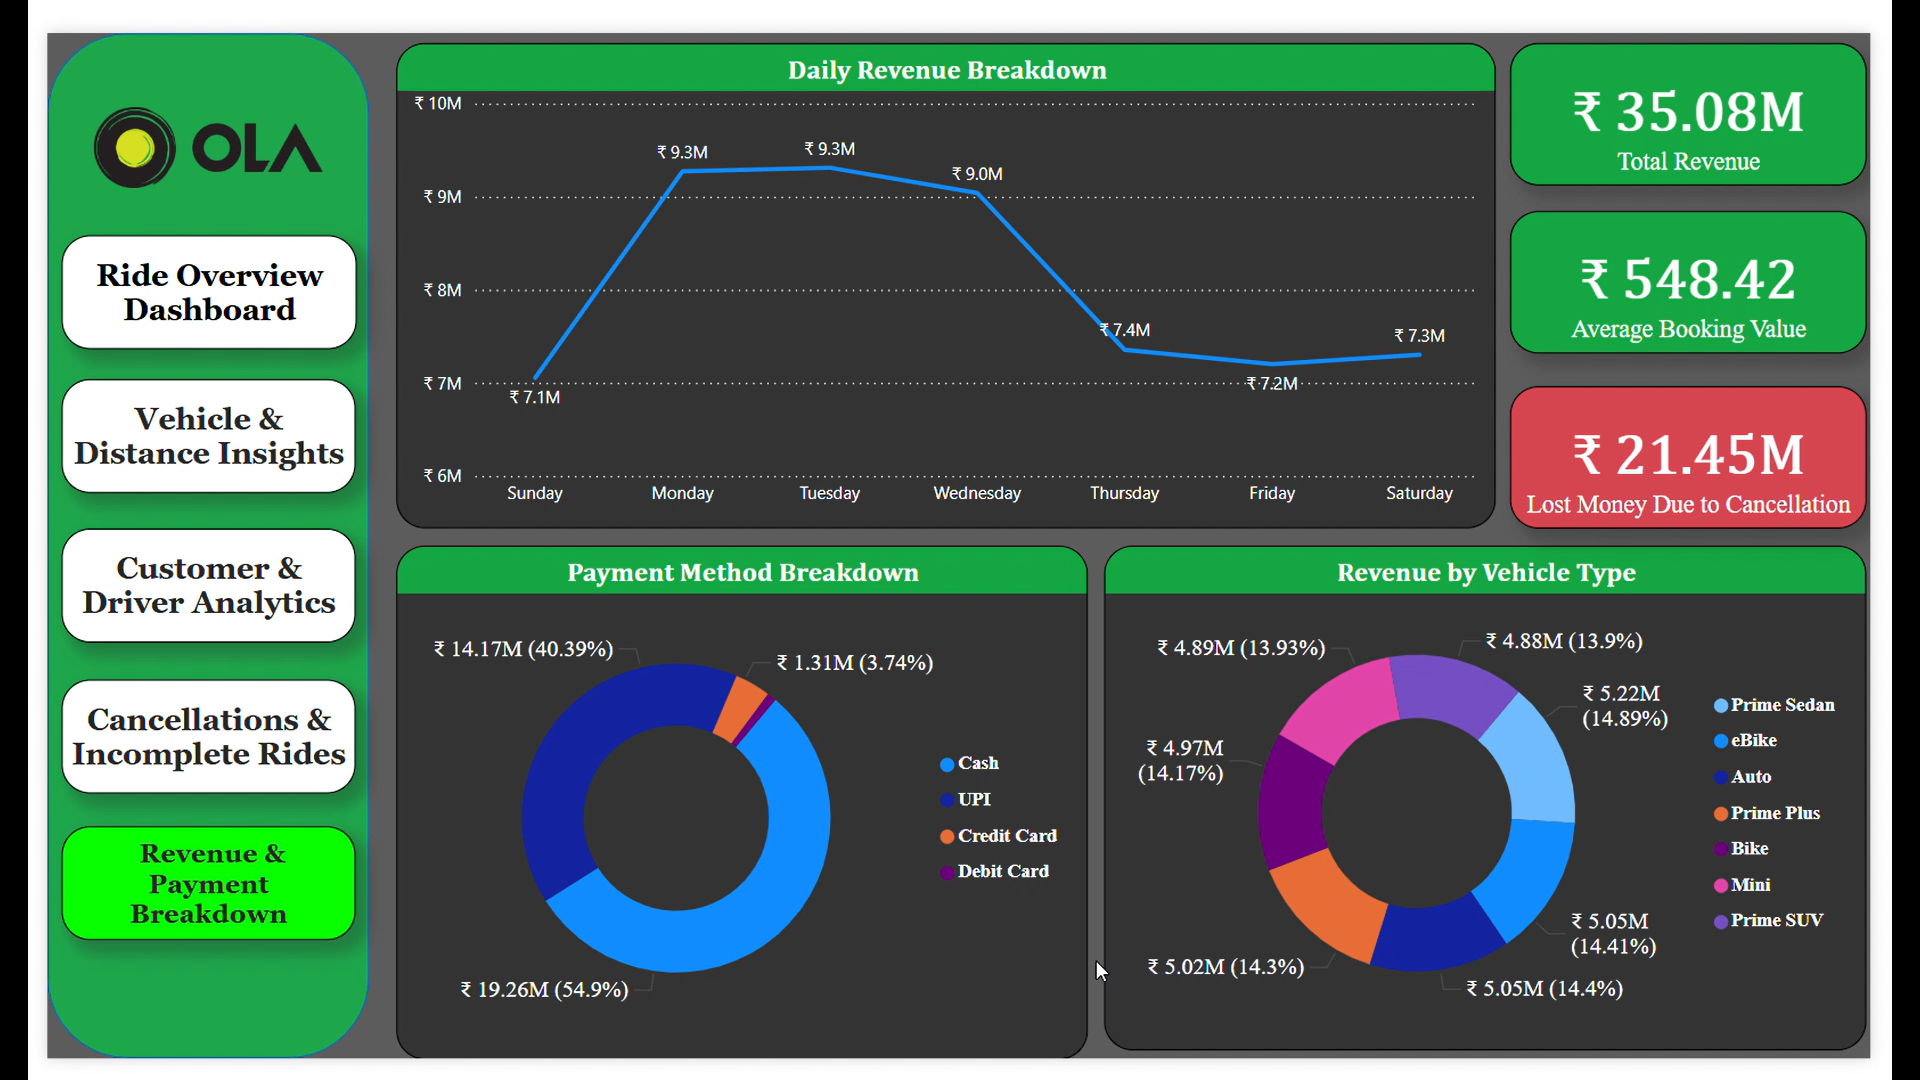

The dashboard page shown, as its layout file describes it:
{"tool":"powerbi","page":{"name":" Revenue & Payment Breakdown","canvas":[1280,720],"ordinal":4},"visuals":[{"type":"shape","box":[0,0,225.7,720],"z":0},{"type":"image","box":[27.1,28.3,171.1,103.4],"z":1000},{"type":"textbox","box":[10.1,141.7,206.6,80.5],"z":2000},{"type":"textbox","box":[10,242.6,206.3,80.1],"z":3000},{"type":"textbox","box":[10,348.1,206.3,80.1],"z":4000},{"type":"textbox","box":[10,453.7,206.3,80.1],"z":5000},{"type":"textbox","box":[10,556.5,206.3,80.1],"z":6000},{"type":"actionButton","box":[10,242.9,205.7,80],"z":7000},{"type":"actionButton","box":[10,141.4,205.7,80],"z":8000},{"type":"actionButton","box":[10,348.6,205.7,80],"z":9000},{"type":"actionButton","box":[10,454.3,205.7,80],"z":10000},{"type":"donutChart","title":"Payment Method Breakdown","fields":{"Y":["Sum(July.Booking_Value)"],"Category":["July.Payment_Method"]},"box":[244.9,360.3,485.6,360.3],"z":11000},{"type":"card","fields":{"Values":["Sum(July.Booking_Value)"]},"box":[1026.8,7,250.4,100.2],"z":12000},{"type":"card","fields":{"Values":["Avg(July.Booking_Value)"]},"box":[1026.8,125.2,250.4,100.2],"z":13000},{"type":"donutChart","title":"Revenue by Vehicle Type","fields":{"Category":["July.Vehicle_Type"],"Y":["Sum(July.Booking_Value)"]},"box":[741.6,360.3,535.7,353.4],"z":14000},{"type":"lineChart","title":"Daily Revenue Breakdown","fields":{"Y":["Sum(July.Booking_Value)"],"Category":["July.Day Name"]},"box":[244.9,7,772.2,340.9],"z":15000},{"type":"card","fields":{"Values":["Sum(July.Booking_Value)"]},"box":[1026.8,247.7,250.4,100.2],"z":16001}]}

Visuals, with their boxes in screenshot pixels (x1, y1, x2, y2), scaled from the page's 1280x720 canvas onto the 1920x1080 screenshot:
shape: bbox(0, 0, 339, 1079)
image: bbox(41, 42, 297, 198)
textbox: bbox(15, 213, 325, 333)
textbox: bbox(15, 364, 324, 484)
textbox: bbox(15, 522, 324, 642)
textbox: bbox(15, 681, 324, 801)
textbox: bbox(15, 835, 324, 955)
actionButton: bbox(15, 364, 324, 484)
actionButton: bbox(15, 212, 324, 332)
actionButton: bbox(15, 523, 324, 643)
actionButton: bbox(15, 681, 324, 801)
"Payment Method Breakdown" donutChart: bbox(367, 540, 1096, 1079)
card - Sum(July.Booking_Value): bbox(1540, 10, 1916, 161)
card - Avg(July.Booking_Value): bbox(1540, 188, 1916, 338)
"Revenue by Vehicle Type" donutChart: bbox(1112, 540, 1916, 1071)
"Daily Revenue Breakdown" lineChart: bbox(367, 10, 1526, 522)
card - Sum(July.Booking_Value): bbox(1540, 372, 1916, 522)
